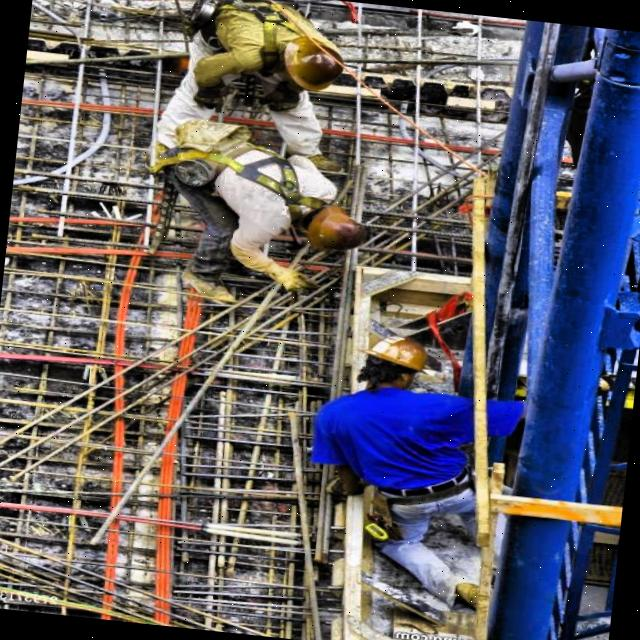helmet: (353, 329, 438, 394), (276, 34, 353, 96), (296, 202, 368, 262)
